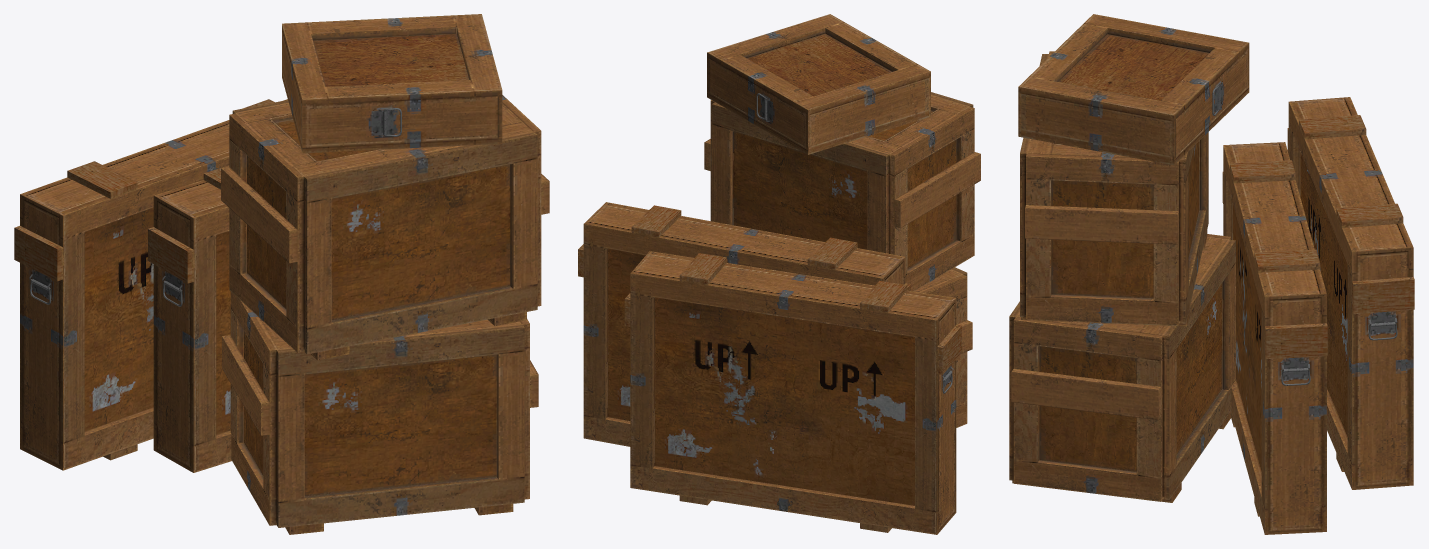
File: sm39_145_transportwoodboxset01a.fbx
The picture shows the model from 3 angles, left to right: view 1: azimuth 30°, elevation 25°; view 2: azimuth 150°, elevation 25°; view 3: azimuth 270°, elevation 25°; orthographic projection. The views are drawn at different scales.
Parts seen in each view (by area): view 1: LOD_1_Group_9_Sub_1__sm26_015_TransportWoodBox01A_A_Mat, LOD_1_Group_4_Sub_1__sm26_015_TransportWoodBox01A_A_Mat, LOD_1_Group_7_Sub_1__sm26_015_TransportWoodBox01A_A_Mat, LOD_1_Group_0_Sub_1__sm26_015_TransportWoodBox01A_A_Mat, LOD_1_Group_5_Sub_1__sm26_015_TransportWoodBox01A_A_Mat, LOD_1_Group_8_Sub_1__sm26_015_TransportWoodBox01A_A_Mat, LOD_1_Group_6_Sub_1__sm26_015_TransportWoodBox01A_A_Mat, LOD_1_Group_2_Sub_1__sm26_015_TransportWoodBox01A_A_Mat, LOD_1_Group_3_Sub_1__sm26_015_TransportWoodBox01A_A_Mat; view 2: LOD_1_Group_7_Sub_1__sm26_015_TransportWoodBox01A_A_Mat, LOD_1_Group_9_Sub_1__sm26_015_TransportWoodBox01A_A_Mat, LOD_1_Group_0_Sub_1__sm26_015_TransportWoodBox01A_A_Mat, LOD_1_Group_5_Sub_1__sm26_015_TransportWoodBox01A_A_Mat, LOD_1_Group_6_Sub_1__sm26_015_TransportWoodBox01A_A_Mat, LOD_1_Group_8_Sub_1__sm26_015_TransportWoodBox01A_A_Mat, LOD_1_Group_3_Sub_1__sm26_015_TransportWoodBox01A_A_Mat, LOD_1_Group_4_Sub_1__sm26_015_TransportWoodBox01A_A_Mat; view 3: LOD_1_Group_4_Sub_1__sm26_015_TransportWoodBox01A_A_Mat, LOD_1_Group_7_Sub_1__sm26_015_TransportWoodBox01A_A_Mat, LOD_1_Group_5_Sub_1__sm26_015_TransportWoodBox01A_A_Mat, LOD_1_Group_9_Sub_1__sm26_015_TransportWoodBox01A_A_Mat, LOD_1_Group_0_Sub_1__sm26_015_TransportWoodBox01A_A_Mat, LOD_1_Group_8_Sub_1__sm26_015_TransportWoodBox01A_A_Mat, LOD_1_Group_2_Sub_1__sm26_015_TransportWoodBox01A_A_Mat, LOD_1_Group_3_Sub_1__sm26_015_TransportWoodBox01A_A_Mat, LOD_1_Group_6_Sub_1__sm26_015_TransportWoodBox01A_A_Mat.
Part boxes in pixels (<box>): LOD_1_Group_9_Sub_1__sm26_015_TransportWoodBox01A_A_Mat: <box>229,95,541,354</box>; LOD_1_Group_4_Sub_1__sm26_015_TransportWoodBox01A_A_Mat: <box>230,291,529,527</box>; LOD_1_Group_7_Sub_1__sm26_015_TransportWoodBox01A_A_Mat: <box>20,99,287,470</box>; LOD_1_Group_0_Sub_1__sm26_015_TransportWoodBox01A_A_Mat: <box>282,14,502,153</box>; LOD_1_Group_5_Sub_1__sm26_015_TransportWoodBox01A_A_Mat: <box>153,180,231,472</box>; LOD_1_Group_8_Sub_1__sm26_015_TransportWoodBox01A_A_Mat: <box>221,166,549,360</box>; LOD_1_Group_6_Sub_1__sm26_015_TransportWoodBox01A_A_Mat: <box>14,99,274,460</box>; LOD_1_Group_2_Sub_1__sm26_015_TransportWoodBox01A_A_Mat: <box>222,335,538,534</box>; LOD_1_Group_3_Sub_1__sm26_015_TransportWoodBox01A_A_Mat: <box>148,165,229,283</box>; LOD_1_Group_7_Sub_1__sm26_015_TransportWoodBox01A_A_Mat: <box>630,251,956,534</box>; LOD_1_Group_9_Sub_1__sm26_015_TransportWoodBox01A_A_Mat: <box>710,92,974,291</box>; LOD_1_Group_0_Sub_1__sm26_015_TransportWoodBox01A_A_Mat: <box>707,14,930,154</box>; LOD_1_Group_5_Sub_1__sm26_015_TransportWoodBox01A_A_Mat: <box>583,202,905,446</box>; LOD_1_Group_6_Sub_1__sm26_015_TransportWoodBox01A_A_Mat: <box>624,253,961,532</box>; LOD_1_Group_8_Sub_1__sm26_015_TransportWoodBox01A_A_Mat: <box>704,139,980,228</box>; LOD_1_Group_3_Sub_1__sm26_015_TransportWoodBox01A_A_Mat: <box>578,205,910,290</box>; LOD_1_Group_4_Sub_1__sm26_015_TransportWoodBox01A_A_Mat: <box>914,267,967,427</box>; LOD_1_Group_4_Sub_1__sm26_015_TransportWoodBox01A_A_Mat: <box>1009,234,1235,501</box>; LOD_1_Group_7_Sub_1__sm26_015_TransportWoodBox01A_A_Mat: <box>1288,97,1413,489</box>; LOD_1_Group_5_Sub_1__sm26_015_TransportWoodBox01A_A_Mat: <box>1223,142,1326,534</box>; LOD_1_Group_9_Sub_1__sm26_015_TransportWoodBox01A_A_Mat: <box>1020,51,1208,326</box>; LOD_1_Group_0_Sub_1__sm26_015_TransportWoodBox01A_A_Mat: <box>1018,14,1249,165</box>; LOD_1_Group_8_Sub_1__sm26_015_TransportWoodBox01A_A_Mat: <box>1021,205,1207,326</box>; LOD_1_Group_2_Sub_1__sm26_015_TransportWoodBox01A_A_Mat: <box>1011,368,1231,502</box>; LOD_1_Group_3_Sub_1__sm26_015_TransportWoodBox01A_A_Mat: <box>1222,160,1327,516</box>; LOD_1_Group_6_Sub_1__sm26_015_TransportWoodBox01A_A_Mat: <box>1287,115,1414,471</box>.
Size of the model in its own units: 2.22 by 1.98 by 1.85.
